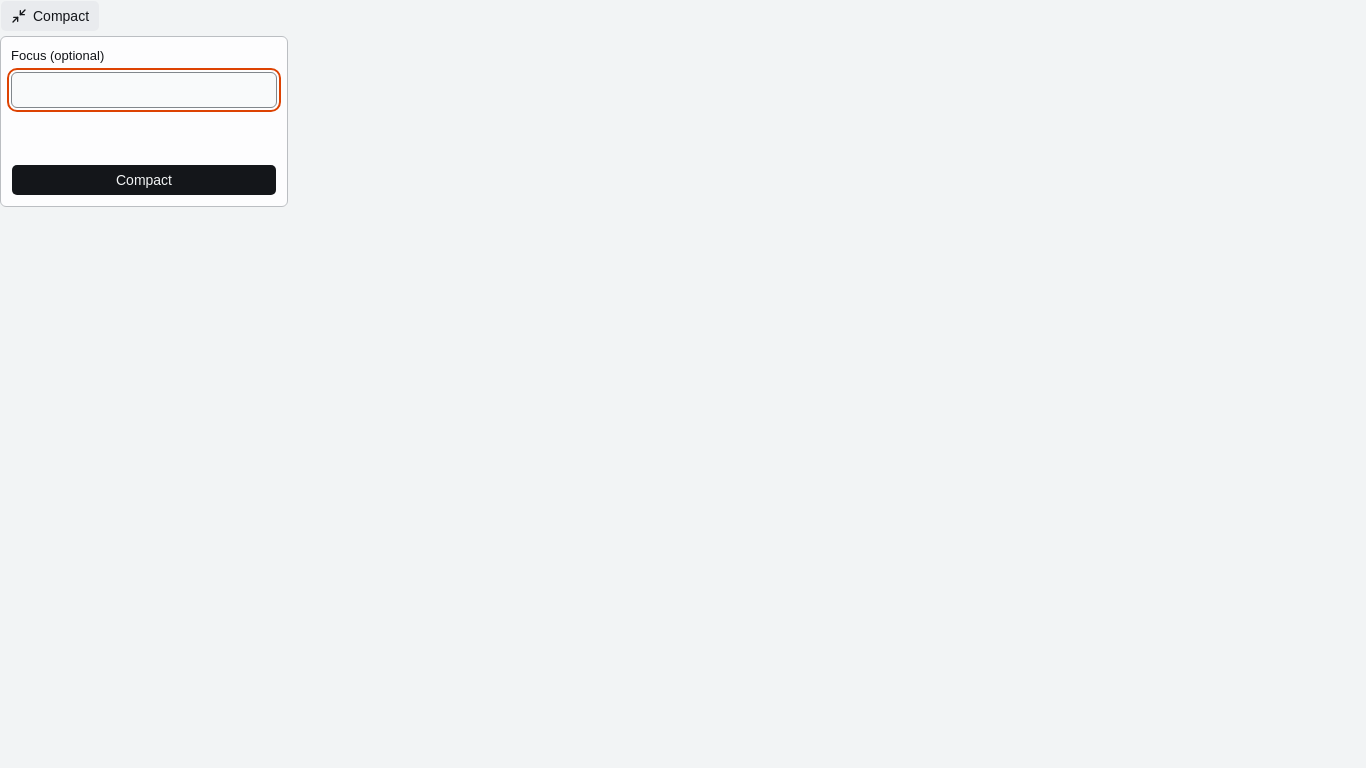
Test: a failed compact shows its message in an alert, announced again on a repeat
The width and height of the screenshot is (1366, 768).
Later steps or results of the test are not shown.
Step 1. Click the button "Compact" below "Focus (optional)" → click(144, 180), box [11,164,277,196]
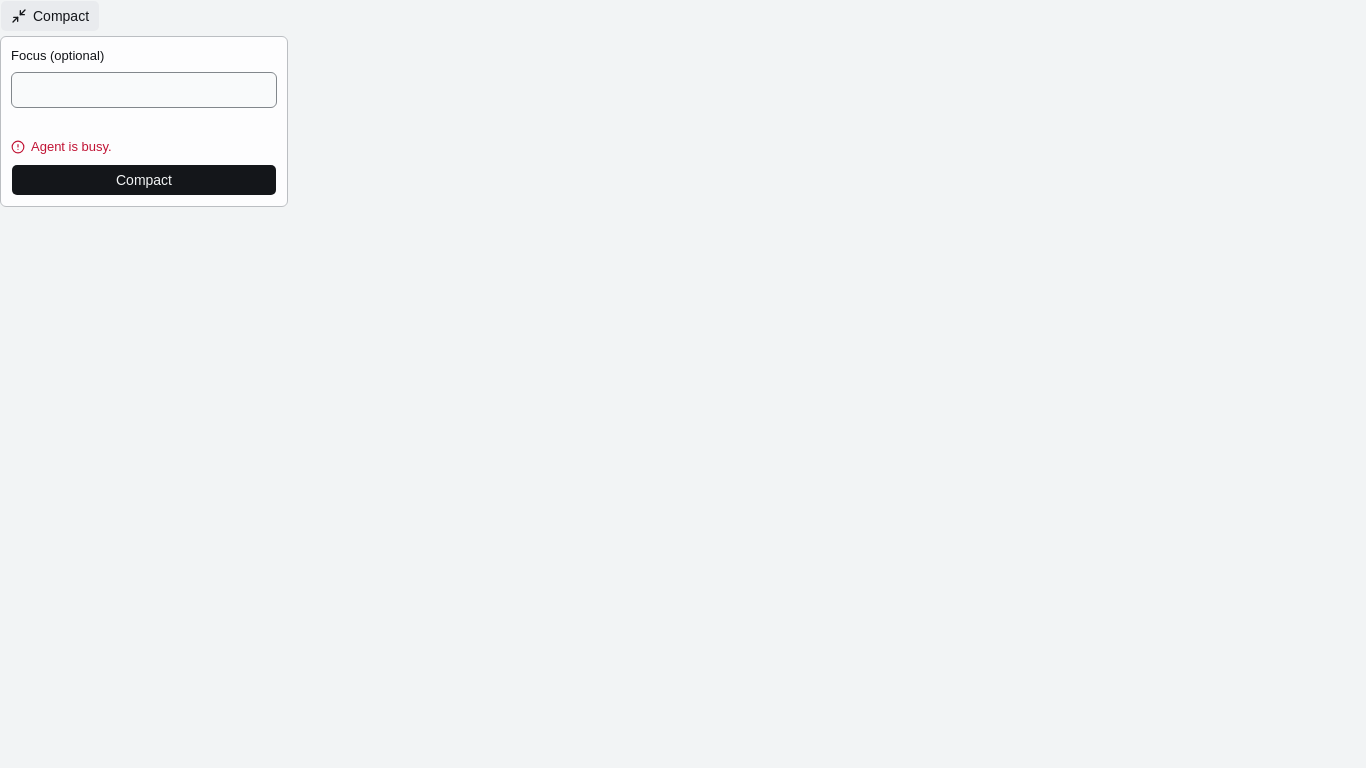
Result: the text "Agent is busy." is shown at [11,139,112,154]
